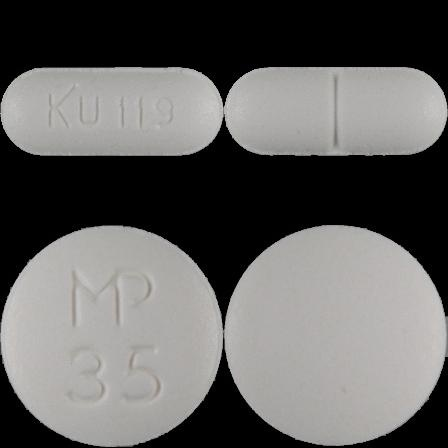63629-1823: (0, 0, 224, 224)
